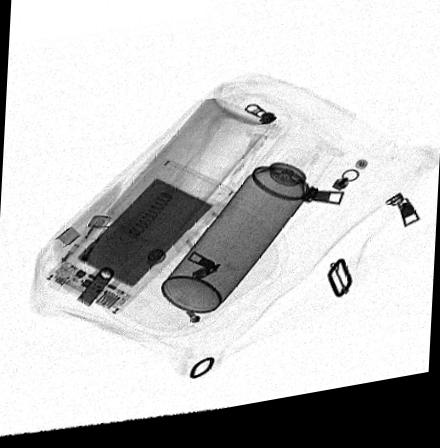Lighter: (55, 219, 112, 277)
Powerbank: (42, 164, 238, 323)
Sprayer: (161, 144, 338, 323)
